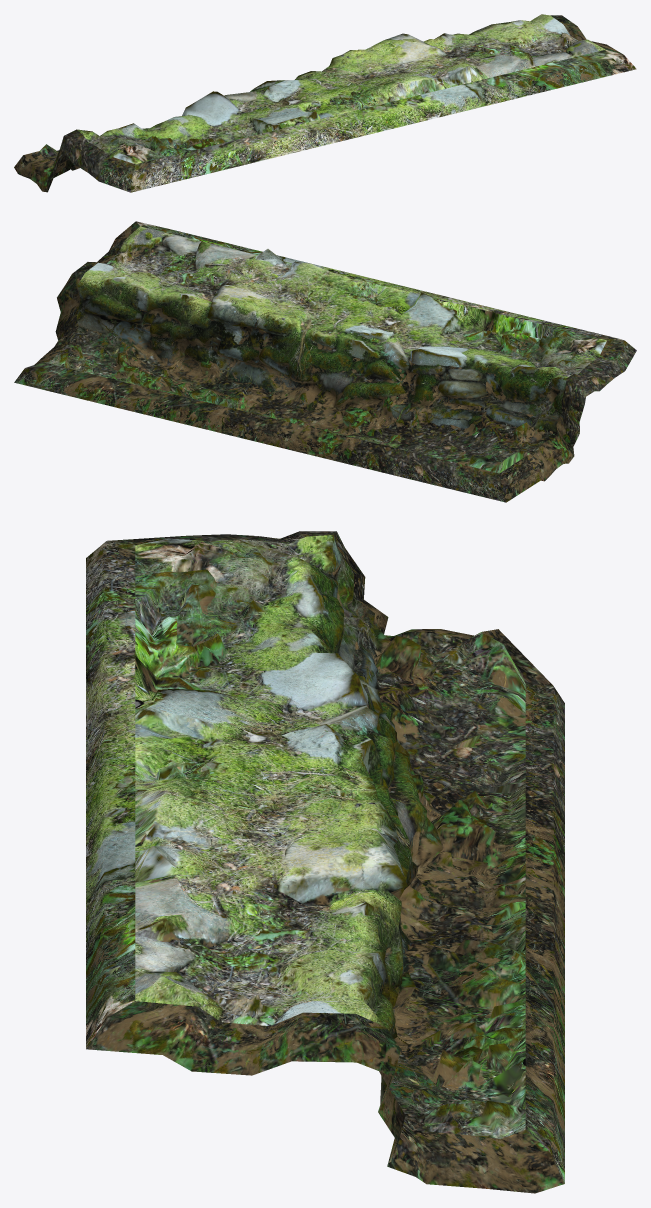
File: Prop_Nature_Stone_Wall.fbx
3 views of the same model, one above another, from view 1: azimuth 30°, elevation 25°; view 2: azimuth 150°, elevation 25°; view 3: azimuth 270°, elevation 25° (orthographic). The views are drawn at different scales.
Visible parts, largest first — view 1: Prop_Nature_Stone_Wall; view 2: Prop_Nature_Stone_Wall; view 3: Prop_Nature_Stone_Wall.
Part boxes in pixels (bbox=[...]): Prop_Nature_Stone_Wall: bbox=[14, 14, 636, 192]; Prop_Nature_Stone_Wall: bbox=[14, 221, 636, 502]; Prop_Nature_Stone_Wall: bbox=[86, 531, 564, 1193].
Size of the model in its own units: 326 by 60.74 by 132.
